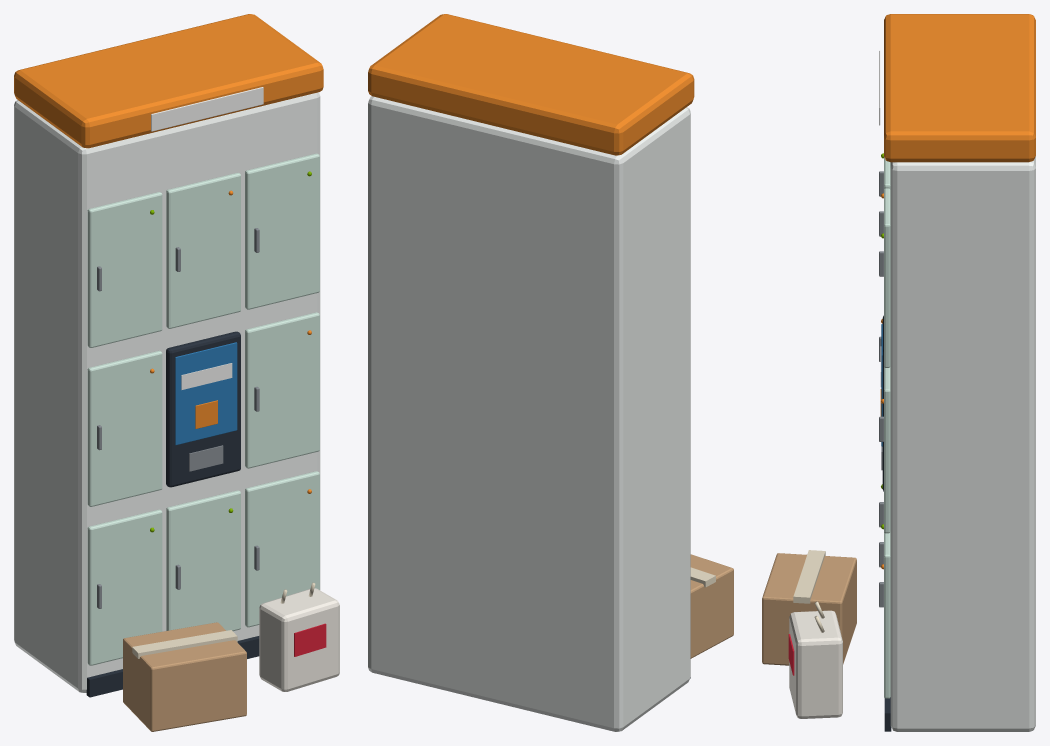
Rendered from deliveryLocker.glb.
3 renders of one model, left to right at view 1: azimuth 30°, elevation 25°; view 2: azimuth 150°, elevation 25°; view 3: azimuth 270°, elevation 25°, orthographic. The views are drawn at different scales.
Parts seen in each view (by area): view 1: body, locker_door; view 2: body; view 3: body, locker_door.
Boxes of the visible parts, box(x1,y1,x2,y2) form: body: box(14, 14, 339, 731); locker_door: box(245, 312, 319, 468); body: box(368, 14, 733, 731); body: box(762, 14, 1035, 731); locker_door: box(879, 366, 890, 533).
Size of the model in its own units: 0.86 by 1.96 by 0.8103.
